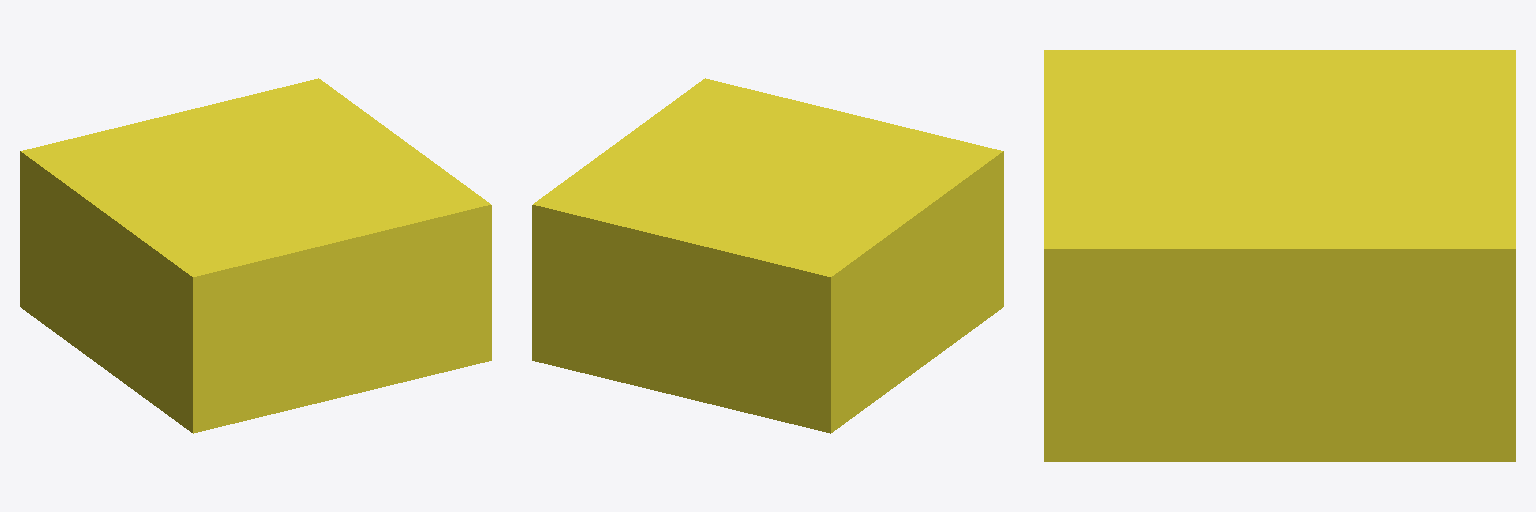
The robot description file, URDF, robot "asb":
<?xml version="1.0" encoding="utf-8"?>

<robot name="asb">    
  <!-- .............................................................................................. -->
  <link name="base_link">
    <inertial>
      <origin
        xyz="0 0 0"
        rpy="0 0 0" />
      <mass
        value="3" />
      <inertia
        ixx="0.0013934"
        ixy="3.9715E-08"
        ixz="2.6411E-09"
        iyy="0.00098223"
        iyz="-1.5817E-07"
        izz="0.0011147" />
    </inertial>
    <visual>
      <origin
        xyz="0 0 0"
        rpy="0 0 0" />
      <geometry>
        <mesh
          filename="file://[local-path]/sim_ws/src/gazebo_sim/meshes/base_link.dae" />
      </geometry>
    </visual>
    <collision>
      <geometry>
        <mesh filename="file://[local-path]/sim_ws/src/gazebo_sim/meshes/base_link.dae" />
      </geometry>
    </collision>
    
  </link>
 <!-- .............................................................................................. -->
<link name="wheel1">
    <inertial>
      <origin
        xyz="0 0 0"
        rpy="0 0 0" />
      <mass
        value="0.2" />
      <inertia
        ixx="5.27E-2"
        ixy="1.3E-10"
        ixz="-7.8E-10"
        iyy="2.69E-2"
        iyz="3.17E-8"
        izz="2.69E-2" />
    </inertial>
    <visual>
      <origin
        xyz="0 0 0"
        rpy="0 0 0" />
      <geometry>
        <mesh
          filename="file://[local-path]/sim_ws/src/gazebo_sim/meshes/wheel1.dae" />
      </geometry>
    </visual>
    
    <collision>
      <geometry>
        <mesh filename="file://[local-path]/sim_ws/src/gazebo_sim/meshes/wheel1.dae" />
      </geometry>
    </collision>
    
  </link>


<link name="wheel2">
    <inertial>
      <origin
        xyz="0 0 0"
        rpy="0 0 0" />
      <mass
        value="0.2" />
      <inertia
        ixx="5.27E-2"
        ixy="1.3E-10"
        ixz="-7.8E-10"
        iyy="2.69E-2"
        iyz="3.17E-8"
        izz="2.69E-2" />
    </inertial>
    <visual>
      <origin
        xyz="0 0 0"
        rpy="0 0 0" />
      <geometry>
        <mesh
          filename="file://[local-path]/sim_ws/src/gazebo_sim/meshes/wheel1.dae" />
      </geometry>
    </visual>
    
    <collision>
      <geometry>
        <mesh filename="file://[local-path]/sim_ws/src/gazebo_sim/meshes/wheel1.dae" />
      </geometry>
    </collision>
    
  </link>



<joint name="wheel1" type="continuous">
        <origin xyz="0.098 0 0" rpy="0 0 0"/>
        <parent link="base_link"/>
        <child link="wheel1"/>
        <dynamics damping="0.0" friction="0.1"/>
   </joint>

<joint name="wheel2" type="continuous">
        <origin xyz="-0.098 0 0" rpy="0 0 0"/>
        <parent link="base_link"/>
        <child link="wheel2"/>
        <dynamics damping="0.0" friction="0.1"/>
  
 </joint>

<transmission name="wheel1">
      <type>transmission_interface/SimpleTransmission</type>
      <joint name="wheel1">
        <hardwareInterface>EffortJointInterface</hardwareInterface>
      </joint>
      <actuator name="wheel1_motor">
        <mechanicalReduction>3.4</mechanicalReduction>
        <hardwareInterface>VelocityJointInterface</hardwareInterface>
      </actuator>
   </transmission>

<transmission name="wheel2">
      <type>transmission_interface/SimpleTransmission</type>
      <joint name="wheel2">
        <hardwareInterface>EffortJointInterface</hardwareInterface>
      </joint>
      <actuator name="wheel2_motor">
        <mechanicalReduction>3.4</mechanicalReduction>
        <hardwareInterface>VelocityJointInterface</hardwareInterface>
      </actuator>
  </transmission>

<gazebo reference="wheel1">
    <mu1>0.4</mu1>
    <mu2>0.4</mu2>
    <material>Gazebo/Black</material>
  </gazebo>

<gazebo reference="wheel2">
    <mu1>0.4</mu1>
    <mu2>0.4</mu2>
    <material>Gazebo/Black</material>
  </gazebo>

<link name="imu">
    <visual>
      <origin 
      xyz="0.0 0.0 0.0"
      rpy="0.0 0.0 0.0"/>
      <geometry>
        <box size="0.010 0.01 0.005"/>
      </geometry>
    </visual>
  </link>

<joint name="imu" type="fixed">
        <origin xyz="0 0 0.045" rpy="0 0 0"/>
        <parent link="base_link"/>
        <child link="imu"/>
   </joint>

<gazebo reference="imu">
    <gravity>true</gravity>
    <sensor name="imu_sensor" type="imu">
      <always_on>true</always_on>
      <update_rate>100</update_rate>
      <visualize>true</visualize>
      <topic>__default_topic__</topic>
      <plugin filename="libgazebo_ros_imu_sensor.so" name="imu_plugin">
        <topicName>imu</topicName>
        <bodyName>imu</bodyName>
        <updateRateHZ>10.0</updateRateHZ>
        <gaussianNoise>0.0</gaussianNoise>
        <xyzOffset>0 0 0</xyzOffset>
        <rpyOffset>0 0 0</rpyOffset>
        <frameName>imu_link</frameName>
      </plugin>
      <pose>0 0 0 0 0 0</pose>
    </sensor>
  </gazebo>


<gazebo>
      <plugin name="gazebo_ros_control" filename="libgazebo_ros_control.so">
      </plugin>
    </gazebo>
</robot>





--- Render facts (derived) ---
Views: 3 orthographic renders of the robot side by side, from view 1: azimuth 30°, elevation 25°; view 2: azimuth 150°, elevation 25°; view 3: azimuth 270°, elevation 25°.
Robot: asb — 4 links, 3 joints (2 continuous, 1 fixed); root link base_link; default pose: all joints at 0.
Links seen in each view (by area): view 1: imu; view 2: imu; view 3: imu.
Link boxes in pixels (bbox=[...]): imu: bbox=[20, 78, 491, 433]; imu: bbox=[532, 78, 1003, 433]; imu: bbox=[1044, 50, 1515, 461].
Size in the robot's own frame: 0.01 by 0.01 by 0.005 metres.
Geometry: only primitive shapes (box / cylinder / sphere) drawn; not drawn: 3 mesh visuals (reference in a form the renderer does not follow).